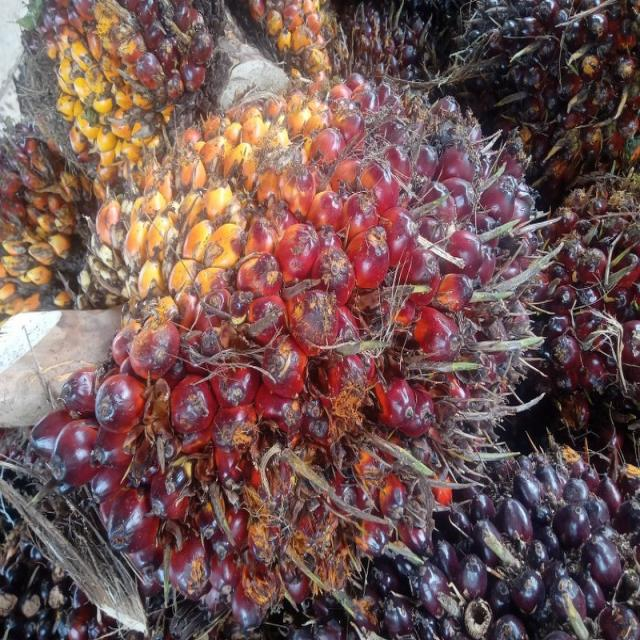fraksi 1: (18, 50, 580, 633)
